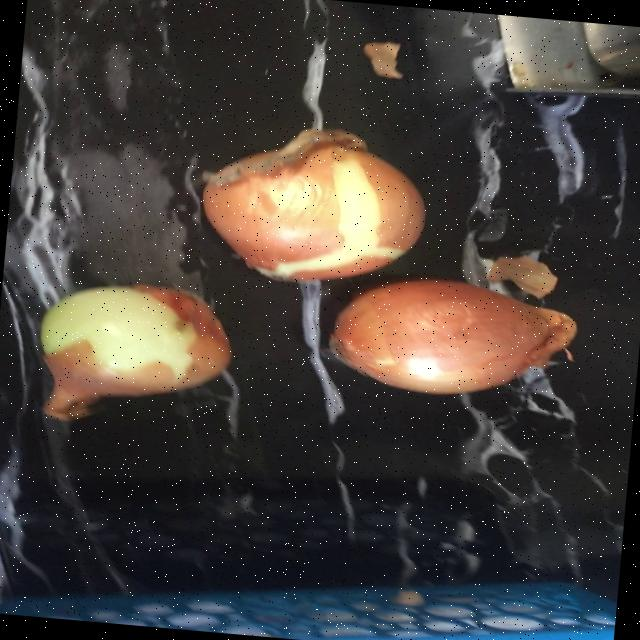Onion: (202, 128, 424, 281), (330, 279, 576, 394), (39, 284, 230, 421)
